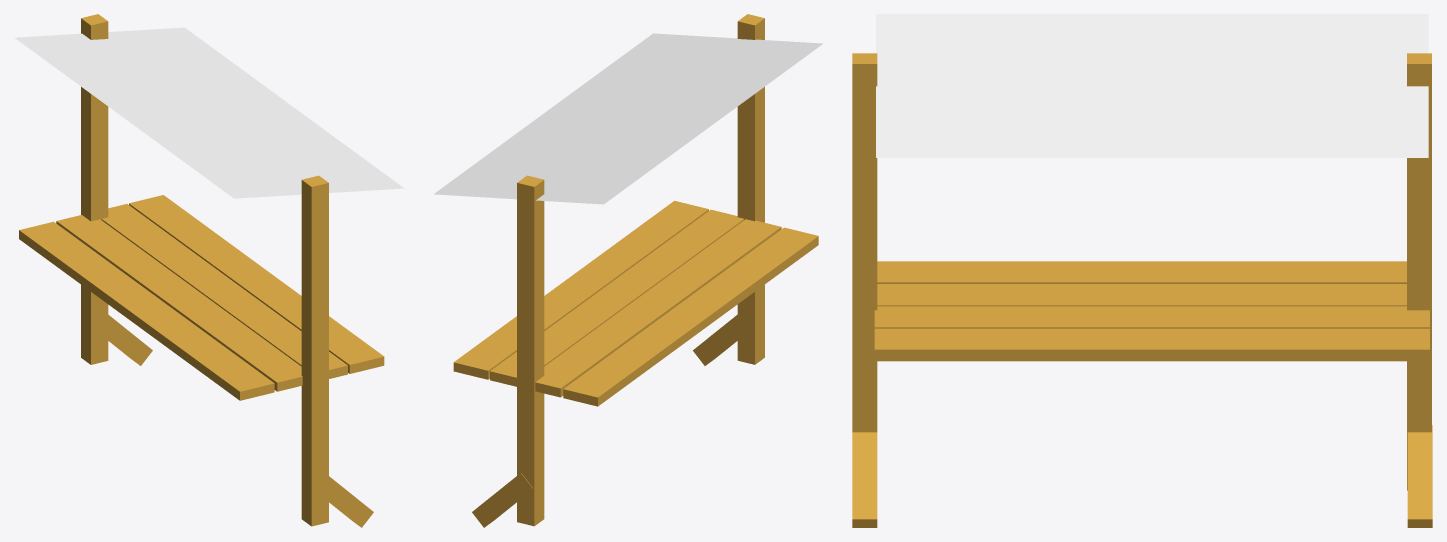
File: first_draft_shops.fbx
The picture shows the model from 3 angles, left to right: view 1: azimuth 30°, elevation 25°; view 2: azimuth 150°, elevation 25°; view 3: azimuth 270°, elevation 25°; orthographic projection. The views are drawn at different scales.
Visible parts, largest first — view 1: Plane.011, Cube.024, Cube.019, Cube.023, Cube.022, Cube.021, Cube.020, Cube.026, Cube.025; view 2: Plane.011, Cube.024, Cube.020, Cube.023, Cube.022, Cube.021, Cube.019, Cube.025, Cube.026; view 3: Plane.011, Cube.022, Cube.021, Cube.023, Cube.024, Cube.019, Cube.020, Cube.025, Cube.026.
Boxes of the visible parts, box(x1,y1,x2,y2) form: Plane.011: box(14, 27, 404, 198); Cube.024: box(19, 221, 274, 400); Cube.019: box(301, 175, 328, 526); Cube.023: box(56, 215, 302, 391); Cube.022: box(129, 195, 384, 373); Cube.021: box(101, 204, 347, 378); Cube.020: box(81, 14, 108, 364); Cube.026: box(313, 473, 373, 527); Cube.025: box(108, 315, 152, 365); Plane.011: box(434, 33, 822, 204); Cube.024: box(563, 227, 818, 406); Cube.020: box(517, 175, 544, 526); Cube.023: box(535, 219, 781, 397); Cube.022: box(453, 200, 708, 379); Cube.021: box(490, 209, 744, 386); Cube.019: box(737, 14, 764, 364); Cube.025: box(472, 473, 532, 527); Cube.026: box(693, 314, 737, 365); Plane.011: box(876, 14, 1428, 157); Cube.022: box(874, 328, 1429, 361); Cube.021: box(874, 306, 1429, 328); Cube.023: box(877, 284, 1406, 306); Cube.024: box(877, 261, 1406, 283); Cube.019: box(852, 53, 877, 432); Cube.020: box(1407, 53, 1431, 490); Cube.025: box(1407, 425, 1432, 527); Cube.026: box(852, 432, 877, 527).
Size of the model in its own units: 197 by 390 by 462.
